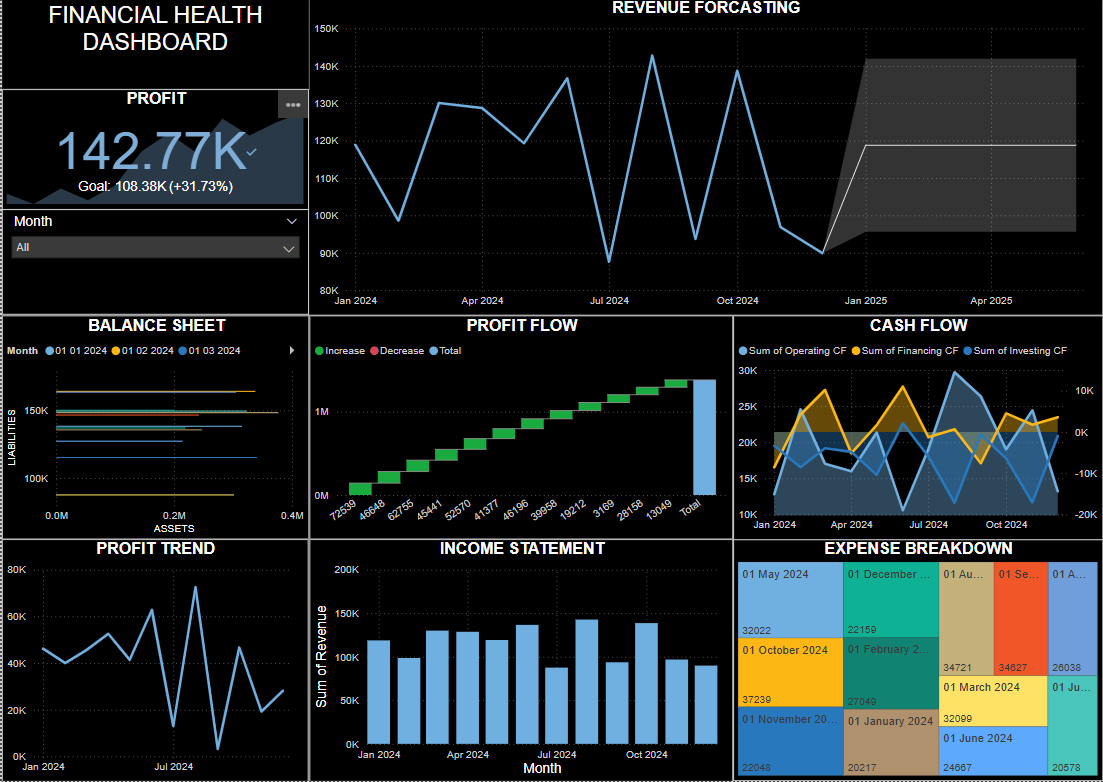

The page's visual inventory and layout, read from the dashboard file:
{"tool":"powerbi","page":{"name":"Page 1","canvas":[1279,910],"ordinal":0},"visuals":[{"type":"kpi","title":"PROFIT","fields":{"TrendLine":["Income Statement.Net Profit"],"Goal":["Sum(Budget Forecast.Expected Revenue)"],"Indicator":["Sum(Income Statement.Revenue)"]},"box":[0,106.2,356.6,139.7],"z":0},{"type":"lineChart","title":"PROFIT TREND","fields":{"Category":["Income Statement.Month"],"Y":["Sum(Income Statement.Net Profit)"]},"box":[0,628.6,355.7,281.7],"z":1000},{"type":"columnChart","title":"INCOME STATEMENT","fields":{"Category":["Income Statement.Month"],"Y":["Sum(Income Statement.Revenue)"]},"box":[357.1,628.6,492.2,281.7],"z":2000},{"type":"treemap","title":"EXPENSE BREAKDOWN","fields":{"Group":["Income Statement.Month"],"Details":["Income Statement.Operating Expenses"],"Values":["Sum(Budget Forecast.Expected Expenses)"]},"box":[850,628.7,429.3,280.9],"z":3000},{"type":"waterfallChart","title":"PROFIT FLOW","fields":{"Category":["Income Statement.Net Profit"],"Y":["Sum(Income Statement.Revenue)"]},"box":[357.1,368.8,492.2,259.9],"z":4000},{"type":"barChart","title":"BALANCE SHEET","fields":{"Category":["Balance Sheet.Liabilities"],"Y":["Sum(Balance Sheet.Assets)"],"Series":["Balance Sheet.Month"]},"box":[0,368.8,357.1,259.9],"z":5000},{"type":"areaChart","title":"CASH FLOW","fields":{"Y":["Sum(Cash Flow.Operating CF)"],"Category":["Cash Flow.Month"],"Y2":["Sum(Cash Flow.Financing CF)","Sum(Cash Flow.Investing CF)"]},"box":[850,368.2,429.3,260.5],"z":6000},{"type":"slicer","fields":{"Values":["Cash Flow.Month"]},"box":[0,246,356.6,122.3],"z":7000},{"type":"lineChart","title":"REVENUE FORCASTING","fields":{"Category":["Income Statement.Month"],"Y":["Sum(Income Statement.Revenue)"]},"box":[355.7,0,923.4,368.8],"z":8000},{"type":"textbox","box":[0,0,356.6,106.2],"z":9000}]}

Visuals, with their boxes in screenshot pixels (x1, y1, x2, y2), scaled from the page's 1279x910 canvas onto the 1103x782 screenshot:
"PROFIT" kpi: [0, 91, 308, 211]
"PROFIT TREND" lineChart: [0, 540, 307, 781]
"INCOME STATEMENT" columnChart: [308, 540, 732, 781]
"EXPENSE BREAKDOWN" treemap: [733, 540, 1102, 781]
"PROFIT FLOW" waterfallChart: [308, 317, 732, 540]
"BALANCE SHEET" barChart: [0, 317, 308, 540]
"CASH FLOW" areaChart: [733, 316, 1102, 540]
slicer - Cash Flow.Month: [0, 211, 308, 316]
"REVENUE FORCASTING" lineChart: [307, 0, 1102, 317]
textbox: [0, 0, 308, 91]
